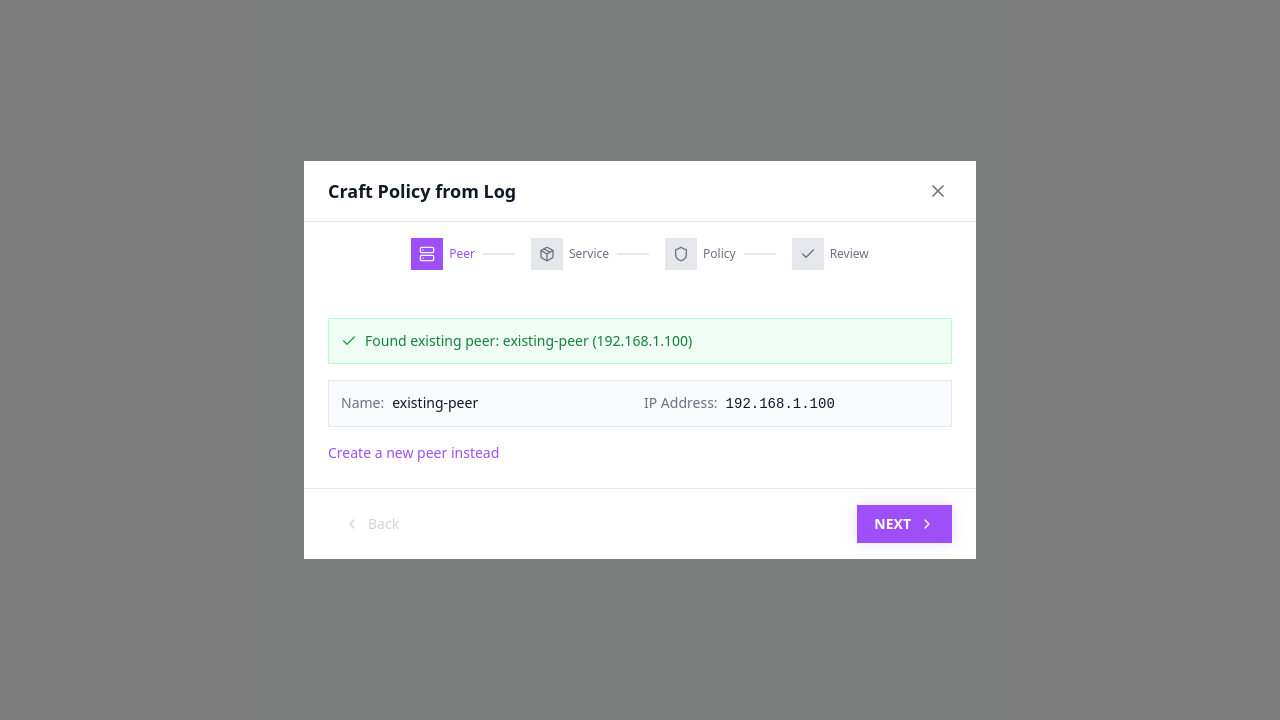
Scenario: CraftPolicyWizard › service detection and creation › displays existing service when found
The width and height of the screenshot is (1280, 720).
Expected: the text "Found existing peer: existing-peer (192.168.1.100)" is shown, [365,331,692,351]
Click the button "Next". click: (905, 524)
box: [857,505,952,543]
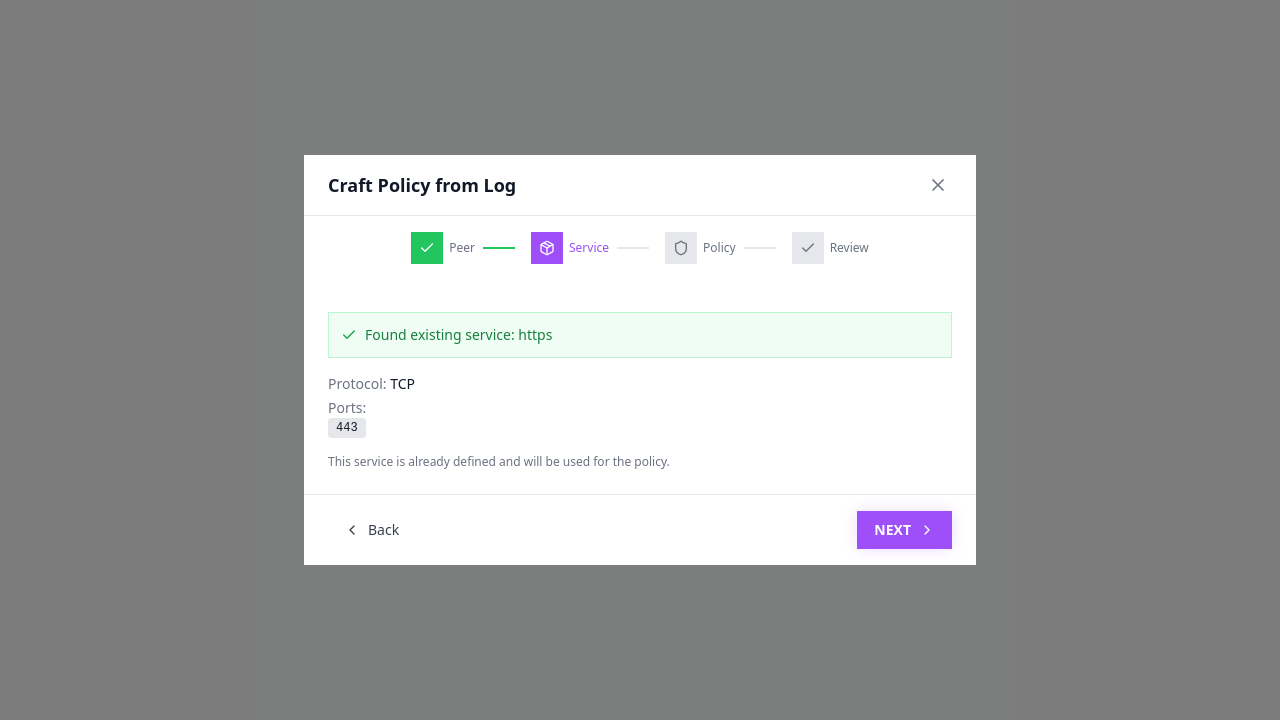
Expected: the text "Found existing service: https" is shown, [365,325,552,345]
